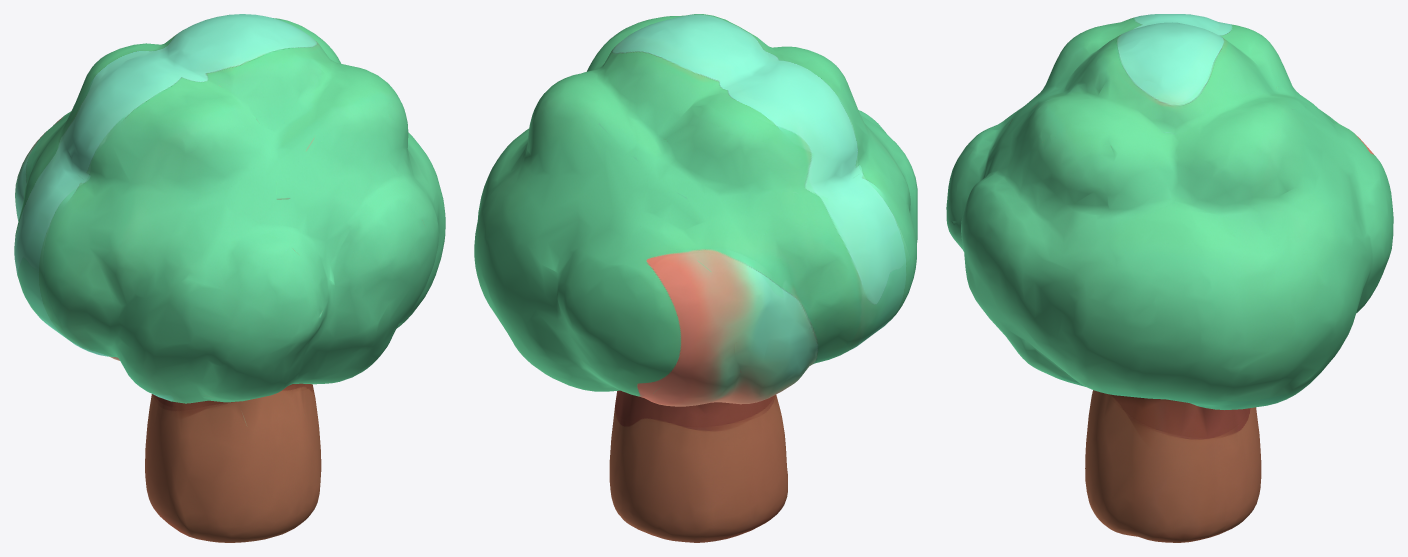
Rendered from static.glb.
3 views of the same model, side by side, from view 1: azimuth 30°, elevation 25°; view 2: azimuth 150°, elevation 25°; view 3: azimuth 270°, elevation 25° (orthographic).
Parts seen in each view (by area): view 1: Mesh_0; view 2: Mesh_0; view 3: Mesh_0.
Part boxes in pixels (x1,y1,x2,y2): Mesh_0: (14,14,445,542); Mesh_0: (474,14,917,542); Mesh_0: (946,14,1393,542).
Bounding box in the file's own units: 1.61 × 1.9 × 1.59.
Materials: 1 (1 with a texture image).
